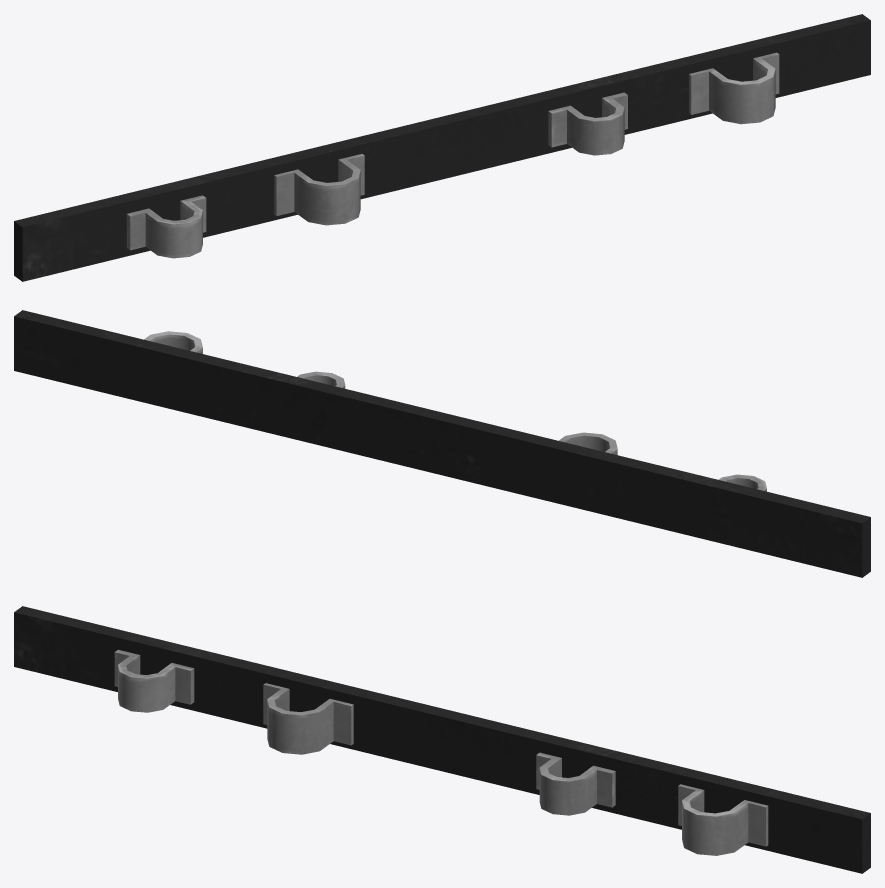
Rendered from ElectricalWires02_Support01.glb.
3 views of the same model, one above another, from view 1: azimuth 30°, elevation 25°; view 2: azimuth 150°, elevation 25°; view 3: azimuth 330°, elevation 25° (orthographic).
Parts seen in each view (by area): view 1: Plane_001; view 2: Plane_001; view 3: Plane_001.
Part boxes in pixels (x1=…): Plane_001: x1=14, y1=14, x2=870, y2=281; Plane_001: x1=14, y1=310, x2=870, y2=577; Plane_001: x1=14, y1=606, x2=870, y2=873.
Bounding box in the file's own units: 2.28 × 0.14 × 0.1667.
Materials: 1 (1 with a texture image).
